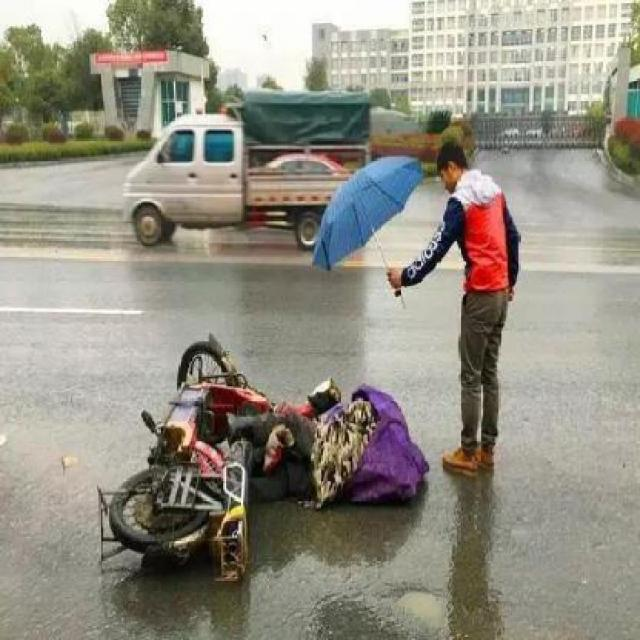fall: (226, 362, 425, 529)
